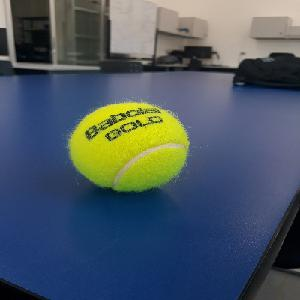Ball: (67, 100, 190, 193)
